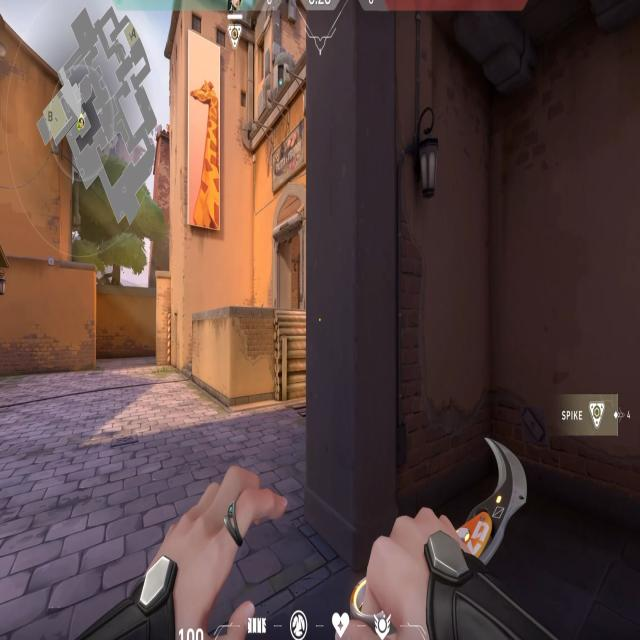B_Cubby: (227, 301, 306, 408)
